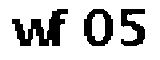0: (80, 7, 115, 48)
5: (119, 6, 150, 51)
f: (50, 8, 72, 49)
w: (10, 17, 52, 51)
